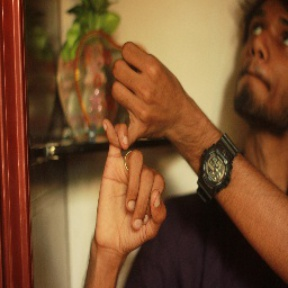S: (95, 42, 190, 263)
